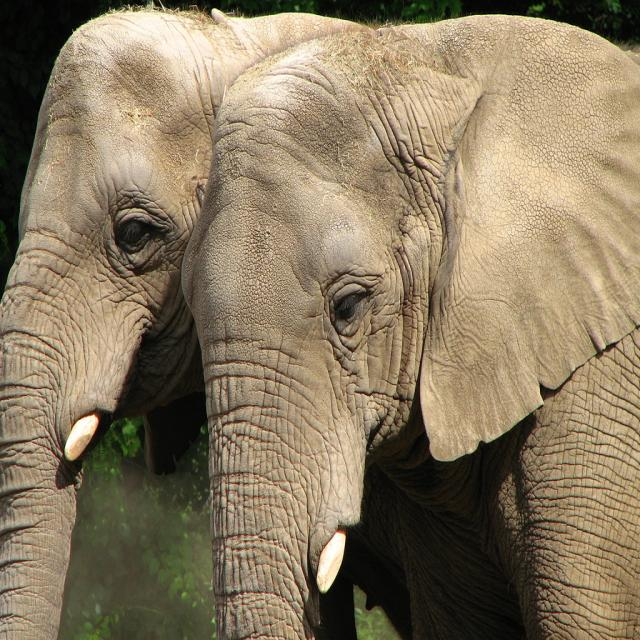elephant: (180, 13, 639, 639), (0, 0, 371, 639)
